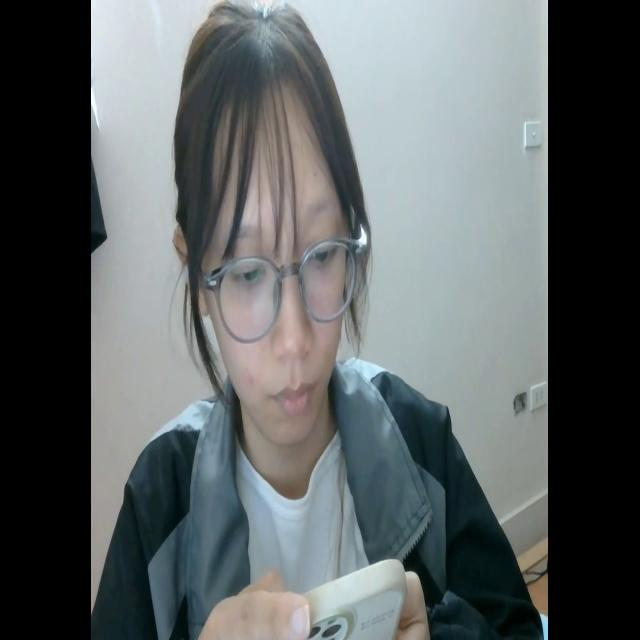phone: (268, 548, 409, 640)
student: (91, 2, 538, 640)
